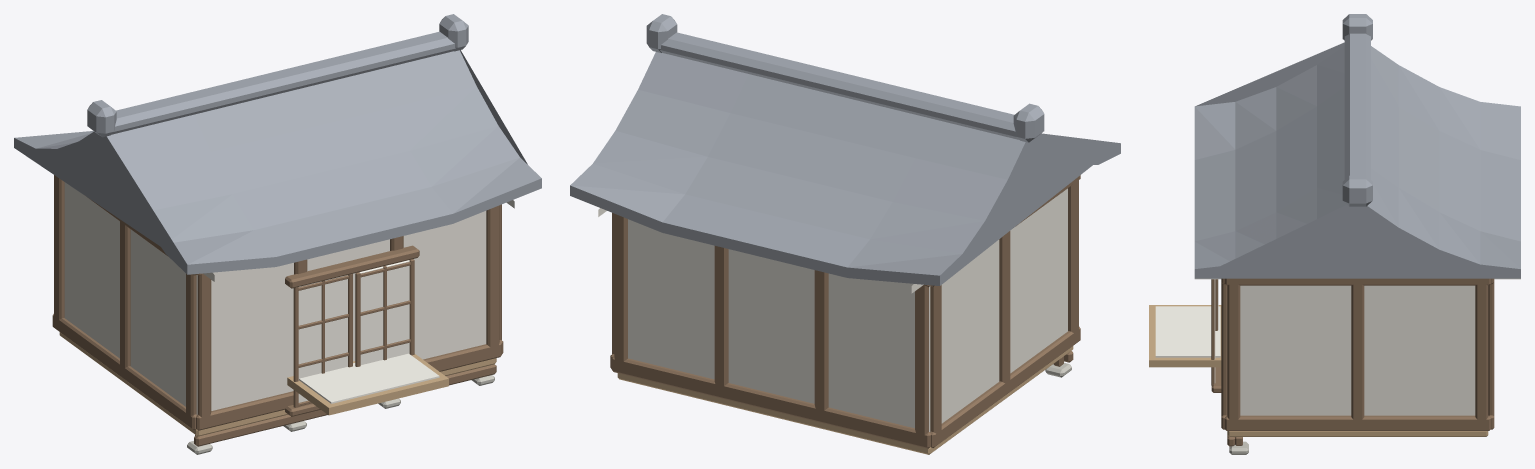
File: feudal-japan-castle-town-paper-maker-32a686b1__26241.glb
3 views of the same model, side by side, from view 1: azimuth 30°, elevation 25°; view 2: azimuth 150°, elevation 25°; view 3: azimuth 270°, elevation 25° (orthographic). The views are drawn at different scales.
Parts seen in each view (by area): view 1: paper-maker; view 2: paper-maker; view 3: paper-maker.
Part boxes in pixels (left/top/right/bottom): paper-maker: left=14, top=14, right=541, bottom=454; paper-maker: left=570, top=14, right=1120, bottom=454; paper-maker: left=1149, top=14, right=1520, bottom=454.
Bounding box in the file's own units: 6.2 × 4.91 × 5.7.
